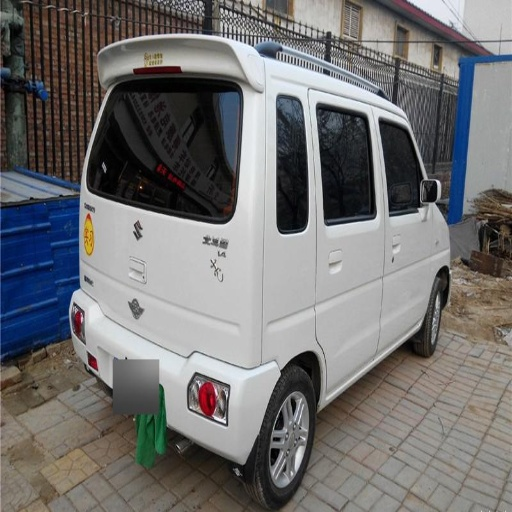back_bumper: (81, 302, 279, 426)
back_glass: (111, 79, 237, 161)
trunk: (91, 215, 260, 350)
